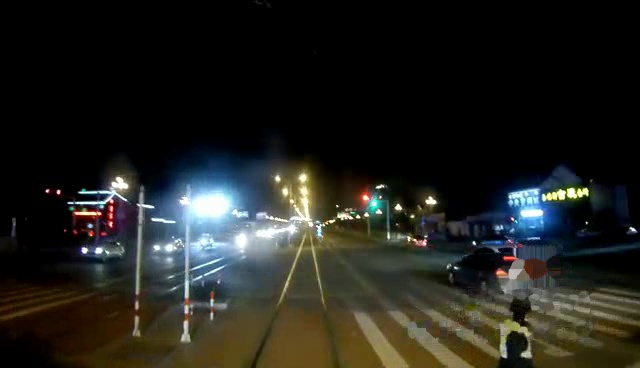car: (440, 248, 534, 293), (83, 238, 134, 263)
